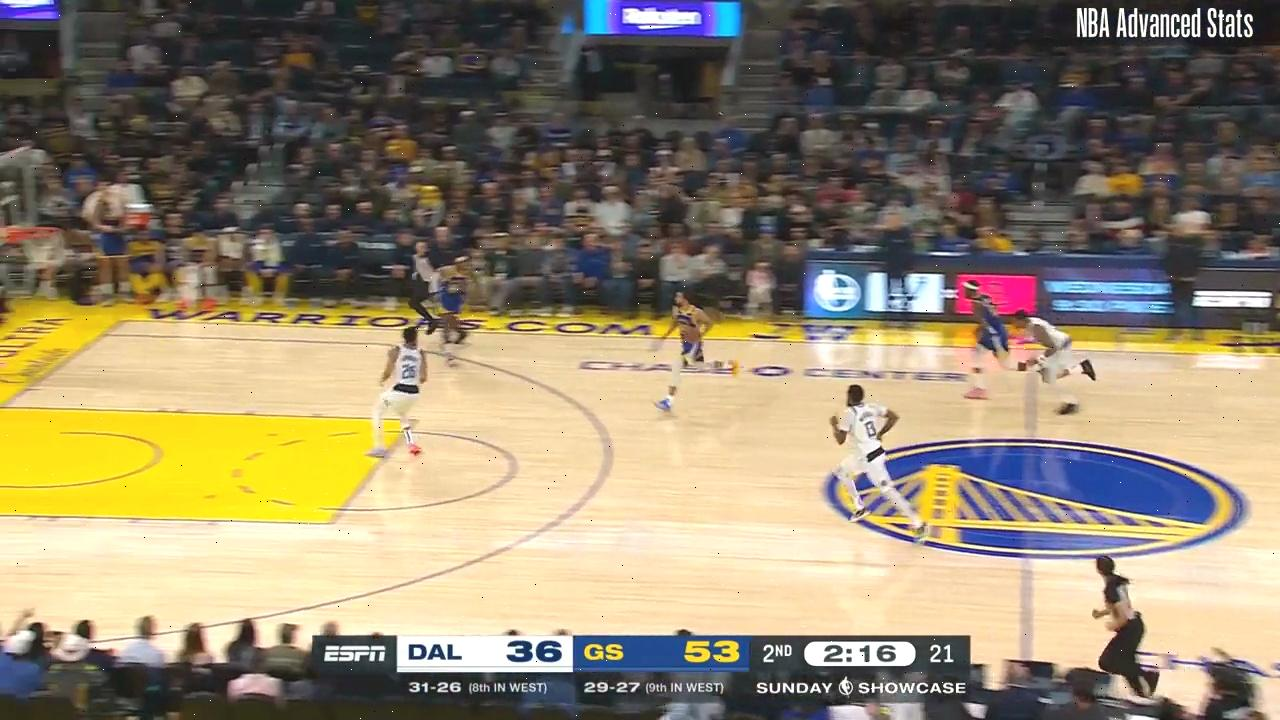basketball: (679, 321, 702, 344)
